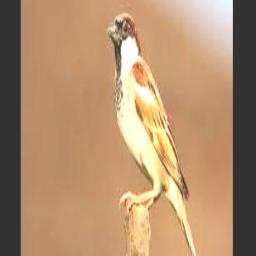Sparrow: (107, 13, 201, 256)
